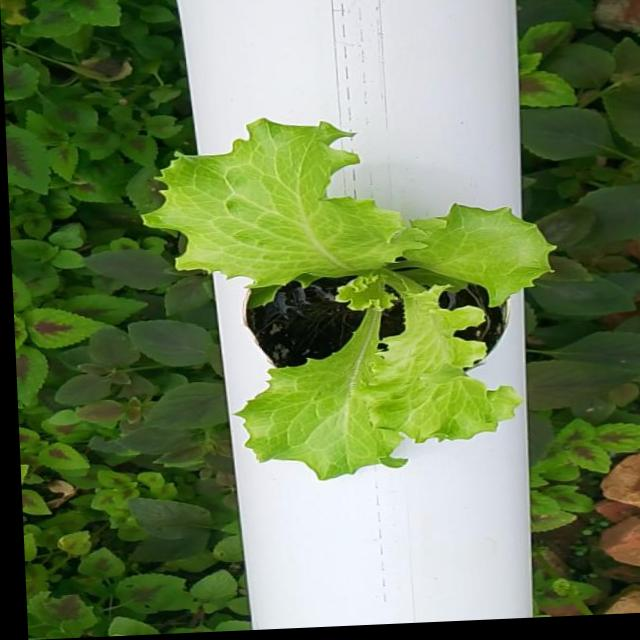Baby: (156, 116, 567, 475)
